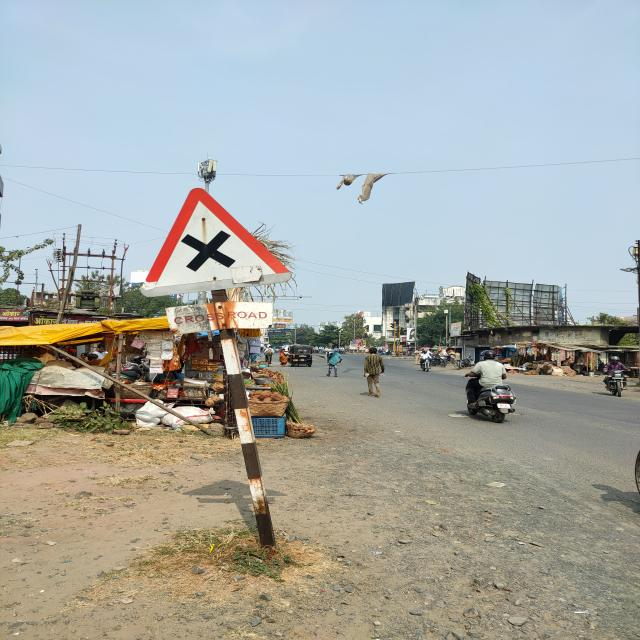cross_road: (136, 187, 308, 300)
